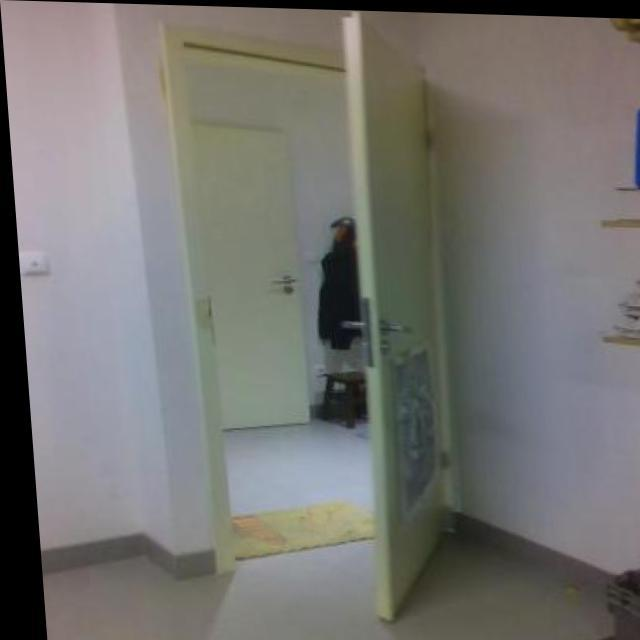door_handle: (372, 313, 418, 344)
